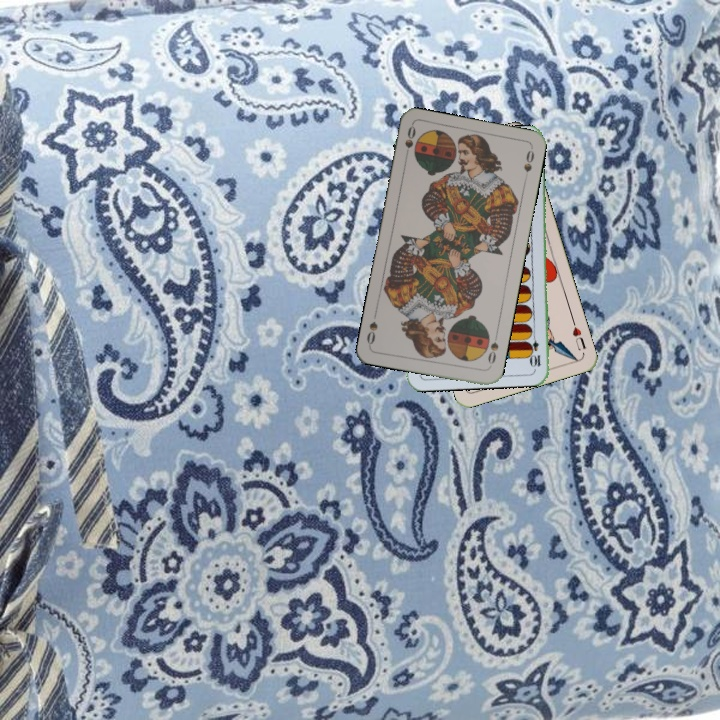E10: (528, 329, 543, 369)
HU: (568, 316, 589, 353)
SO: (401, 122, 418, 163), (484, 330, 501, 370)
